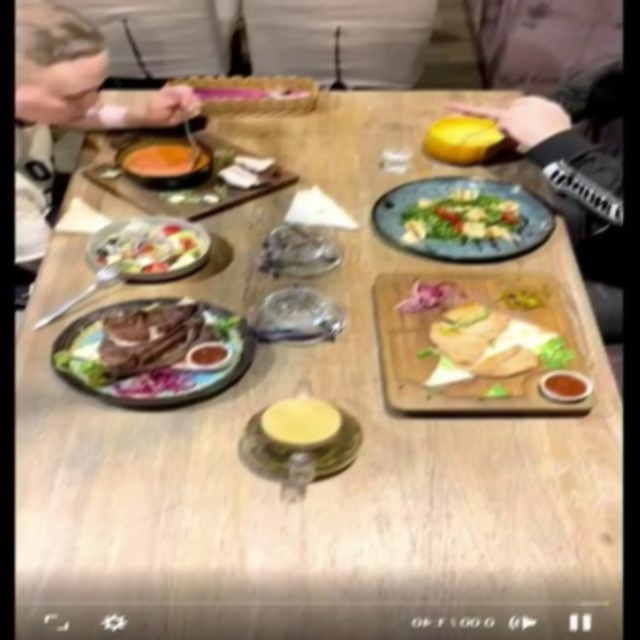meat: (380, 275, 595, 420), (50, 297, 261, 407)
salad: (375, 176, 561, 260), (86, 214, 214, 280)
soup: (82, 130, 306, 222), (426, 114, 512, 162)
tea: (236, 366, 374, 505)
